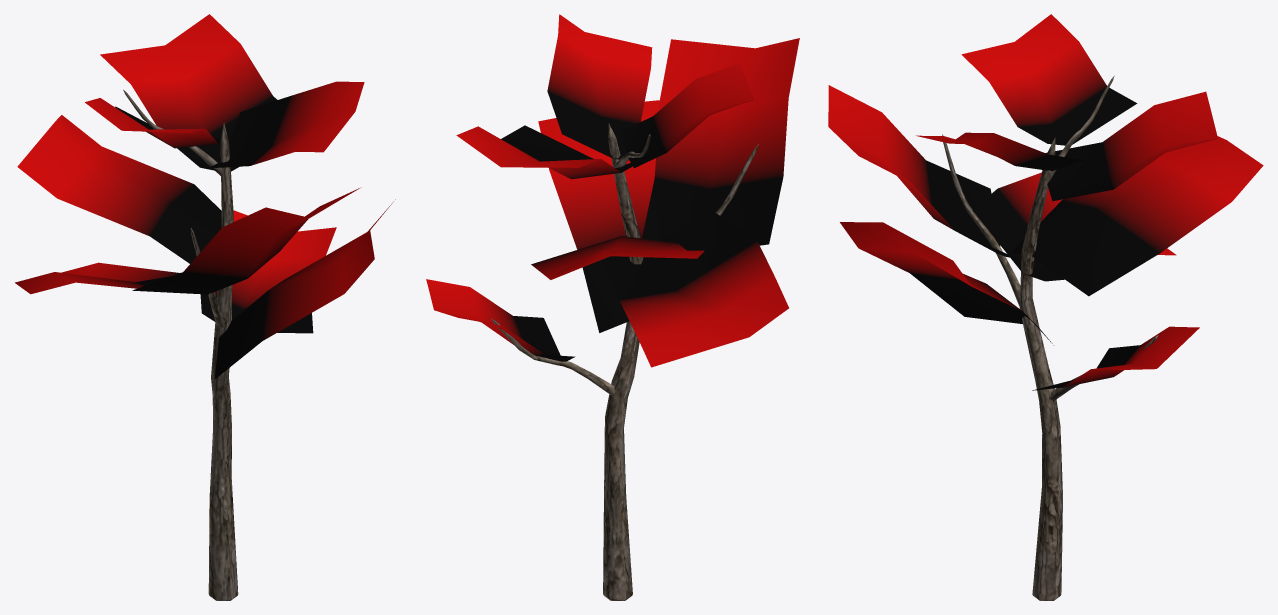
File: SM_SaplingOakGreen_1.fbx
3 renders of one model, left to right at view 1: azimuth 30°, elevation 25°; view 2: azimuth 150°, elevation 25°; view 3: azimuth 270°, elevation 25°, orthographic. The views are drawn at different scales.
Visible parts, largest first — view 1: saplingOak_treeGreen_1; view 2: saplingOak_treeGreen_1; view 3: saplingOak_treeGreen_1.
Boxes of the visible parts, x1=… form: saplingOak_treeGreen_1: x1=15, y1=14, x2=395, y2=600; saplingOak_treeGreen_1: x1=426, y1=14, x2=799, y2=600; saplingOak_treeGreen_1: x1=828, y1=14, x2=1263, y2=600.
Size of the model in its own units: 2.78 by 4.1 by 3.13.
